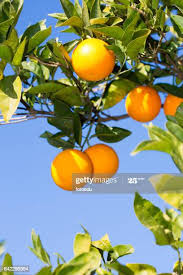orange: (69, 41, 116, 85), (48, 146, 92, 191), (84, 142, 120, 180), (126, 84, 162, 121)
